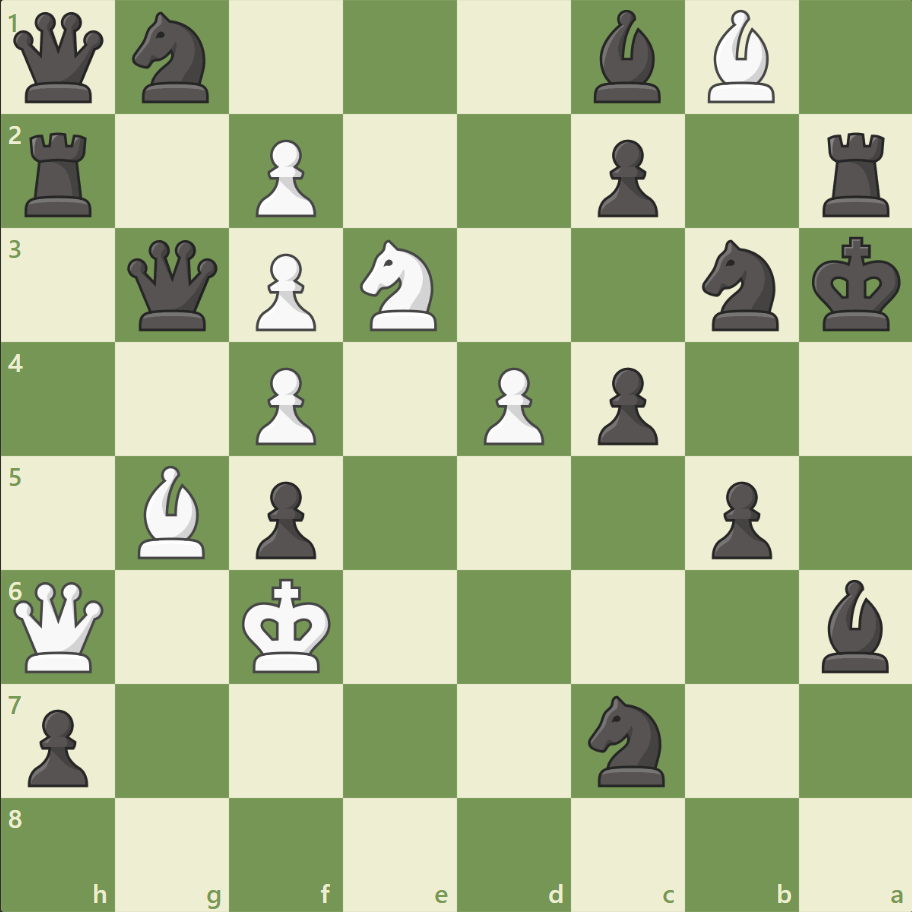B: (131, 460, 215, 563), (698, 6, 782, 109)
K: (238, 571, 338, 679)
N: (351, 234, 449, 337)
P: (474, 359, 549, 450), (247, 359, 322, 450), (247, 246, 322, 337), (247, 132, 322, 223)
Q: (10, 576, 109, 676)
b: (585, 6, 669, 109), (812, 574, 896, 676)
k: (806, 231, 906, 339)
n: (124, 7, 222, 110), (579, 688, 676, 791), (692, 234, 789, 337)
p: (20, 700, 95, 791), (701, 473, 776, 564), (247, 473, 322, 564), (588, 359, 662, 450), (588, 132, 662, 223)
q: (124, 236, 223, 335), (10, 9, 109, 108)
r: (814, 125, 897, 222), (19, 125, 102, 222)
